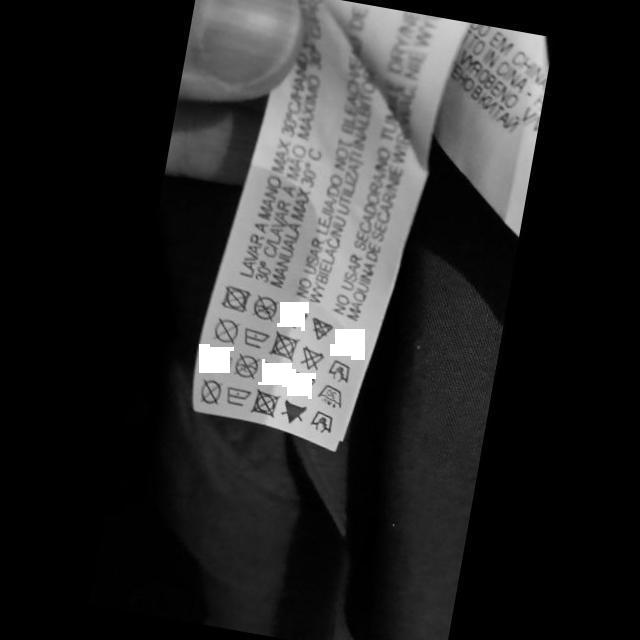30C: (312, 380, 346, 410)
DN_bleach: (276, 396, 307, 426), (305, 313, 334, 343), (296, 343, 324, 372)
DN_dry_clean: (210, 314, 242, 346), (230, 351, 262, 381), (250, 292, 280, 322), (194, 376, 223, 406)
DN_tumble_dry: (246, 386, 282, 420), (266, 328, 300, 362), (218, 282, 253, 314)
hand_wash: (306, 407, 335, 434), (324, 356, 350, 384)
iron_low: (222, 383, 253, 409), (240, 325, 270, 351)
